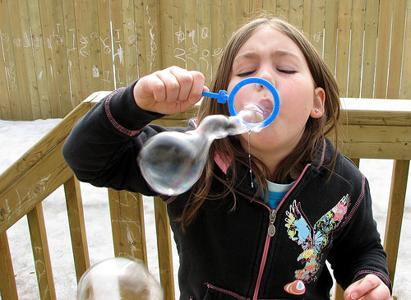person: (63, 17, 394, 300)
